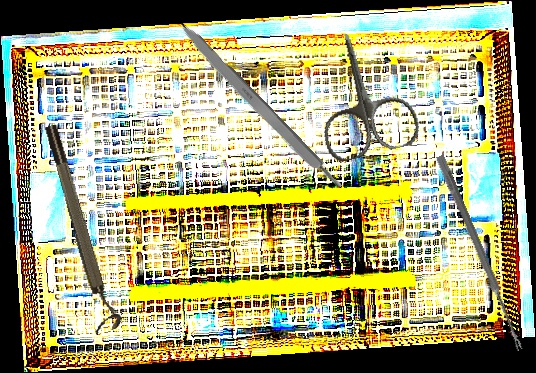Fixation Ring: (40, 120, 125, 335)
Iris Scissors: (300, 22, 424, 165)
Scalpel Handle: (174, 19, 344, 195)
Surgical Spoon: (434, 154, 526, 352)
